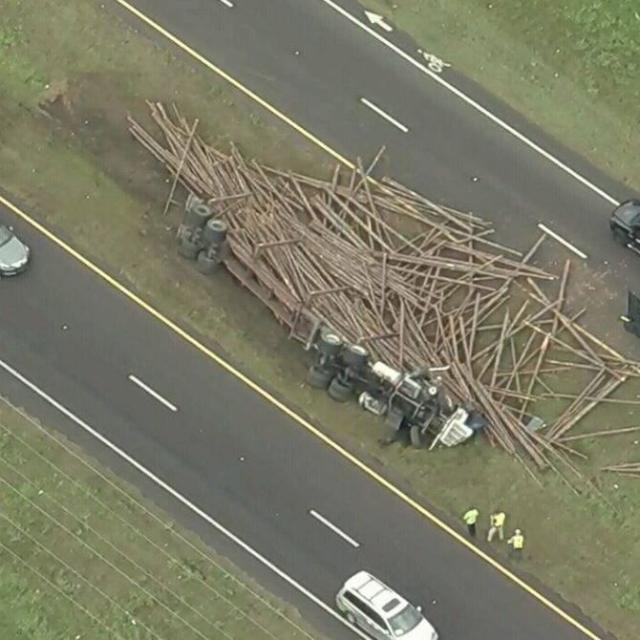traffic_incident: (190, 157, 475, 436)
